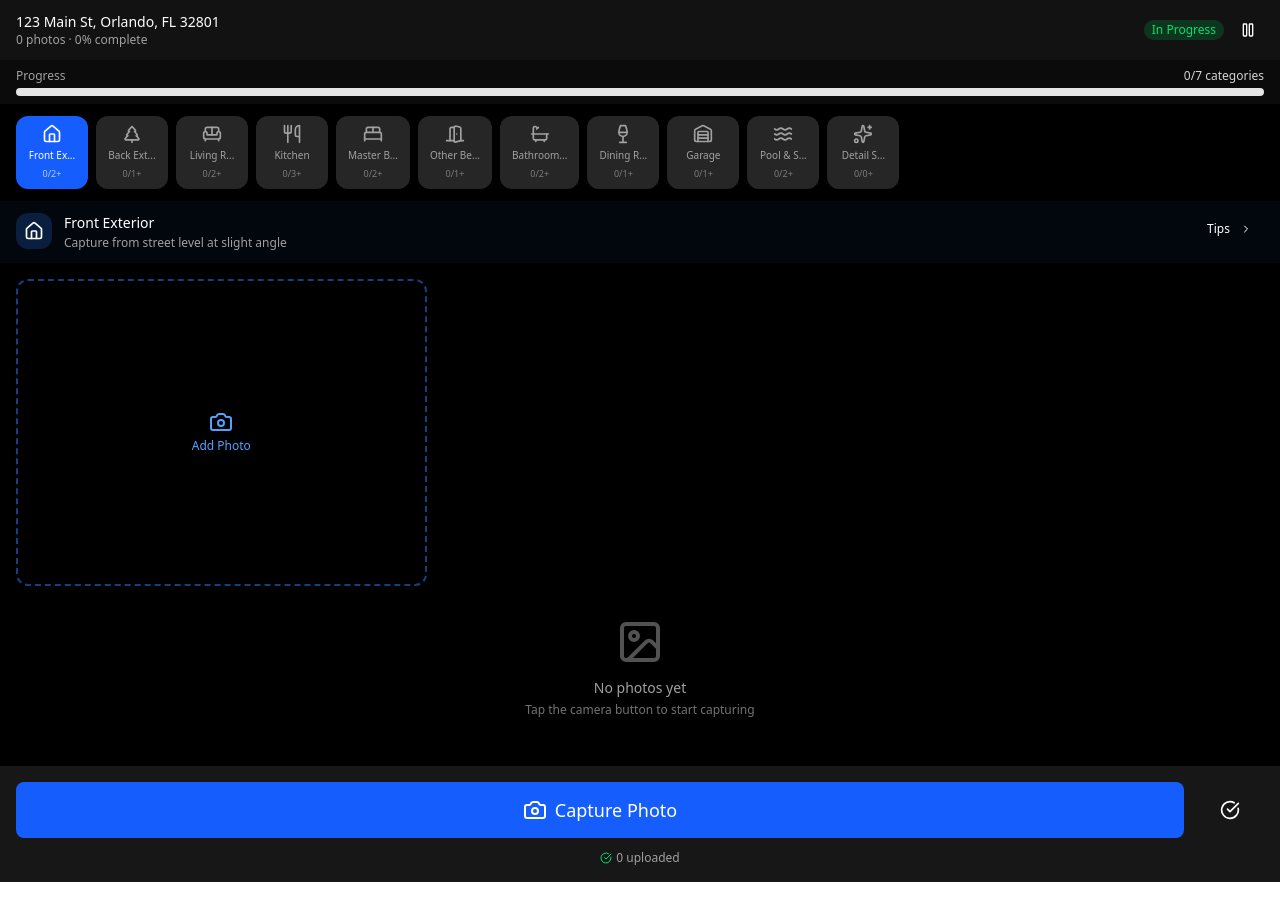
Test: ShootModeClient › Pause/Resume › should toggle to paused state
Click the button without text next to "In Progress" at [1248, 30], box [1232,14,1264,46]
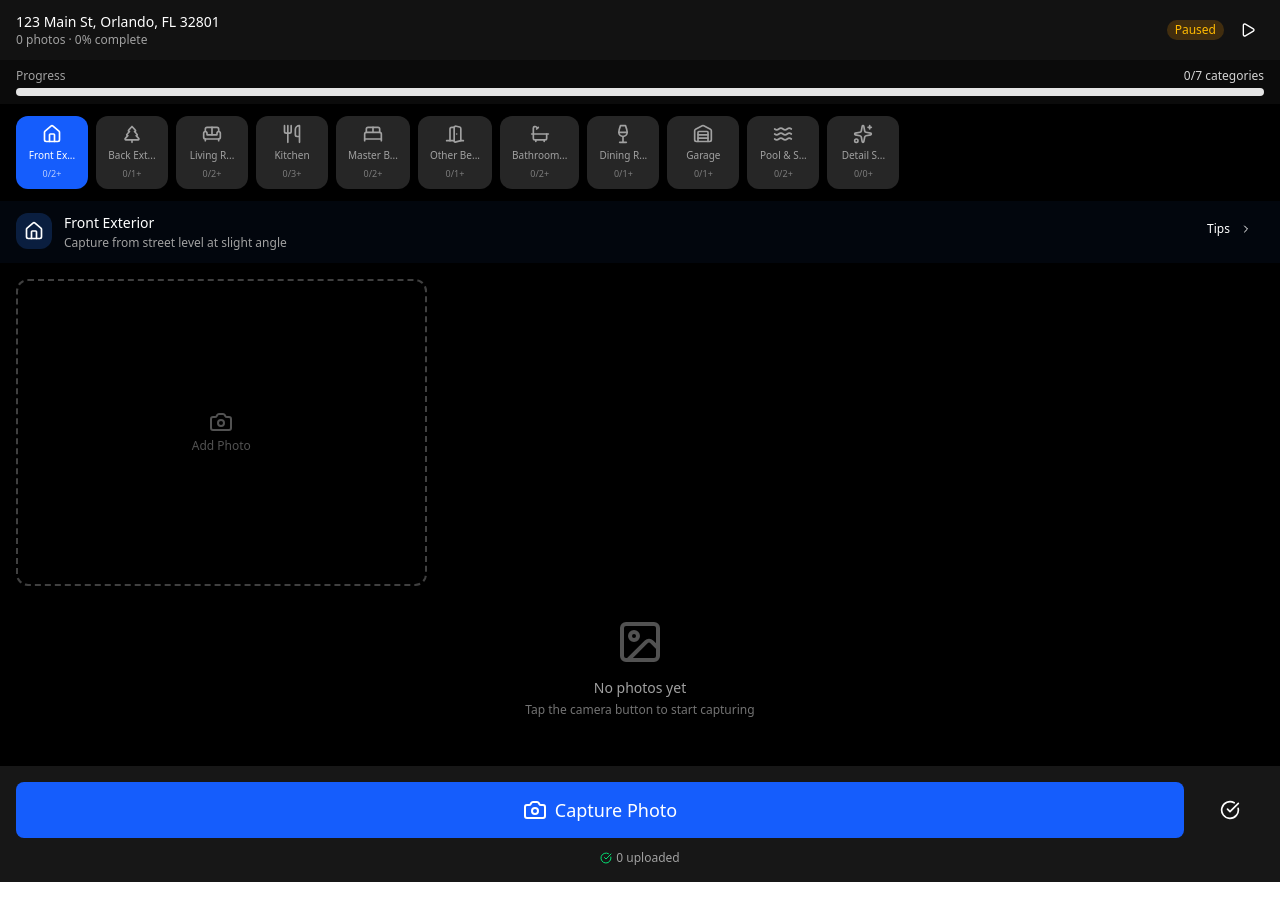
Now the text "Paused" is shown, box [1167,20,1224,40]
